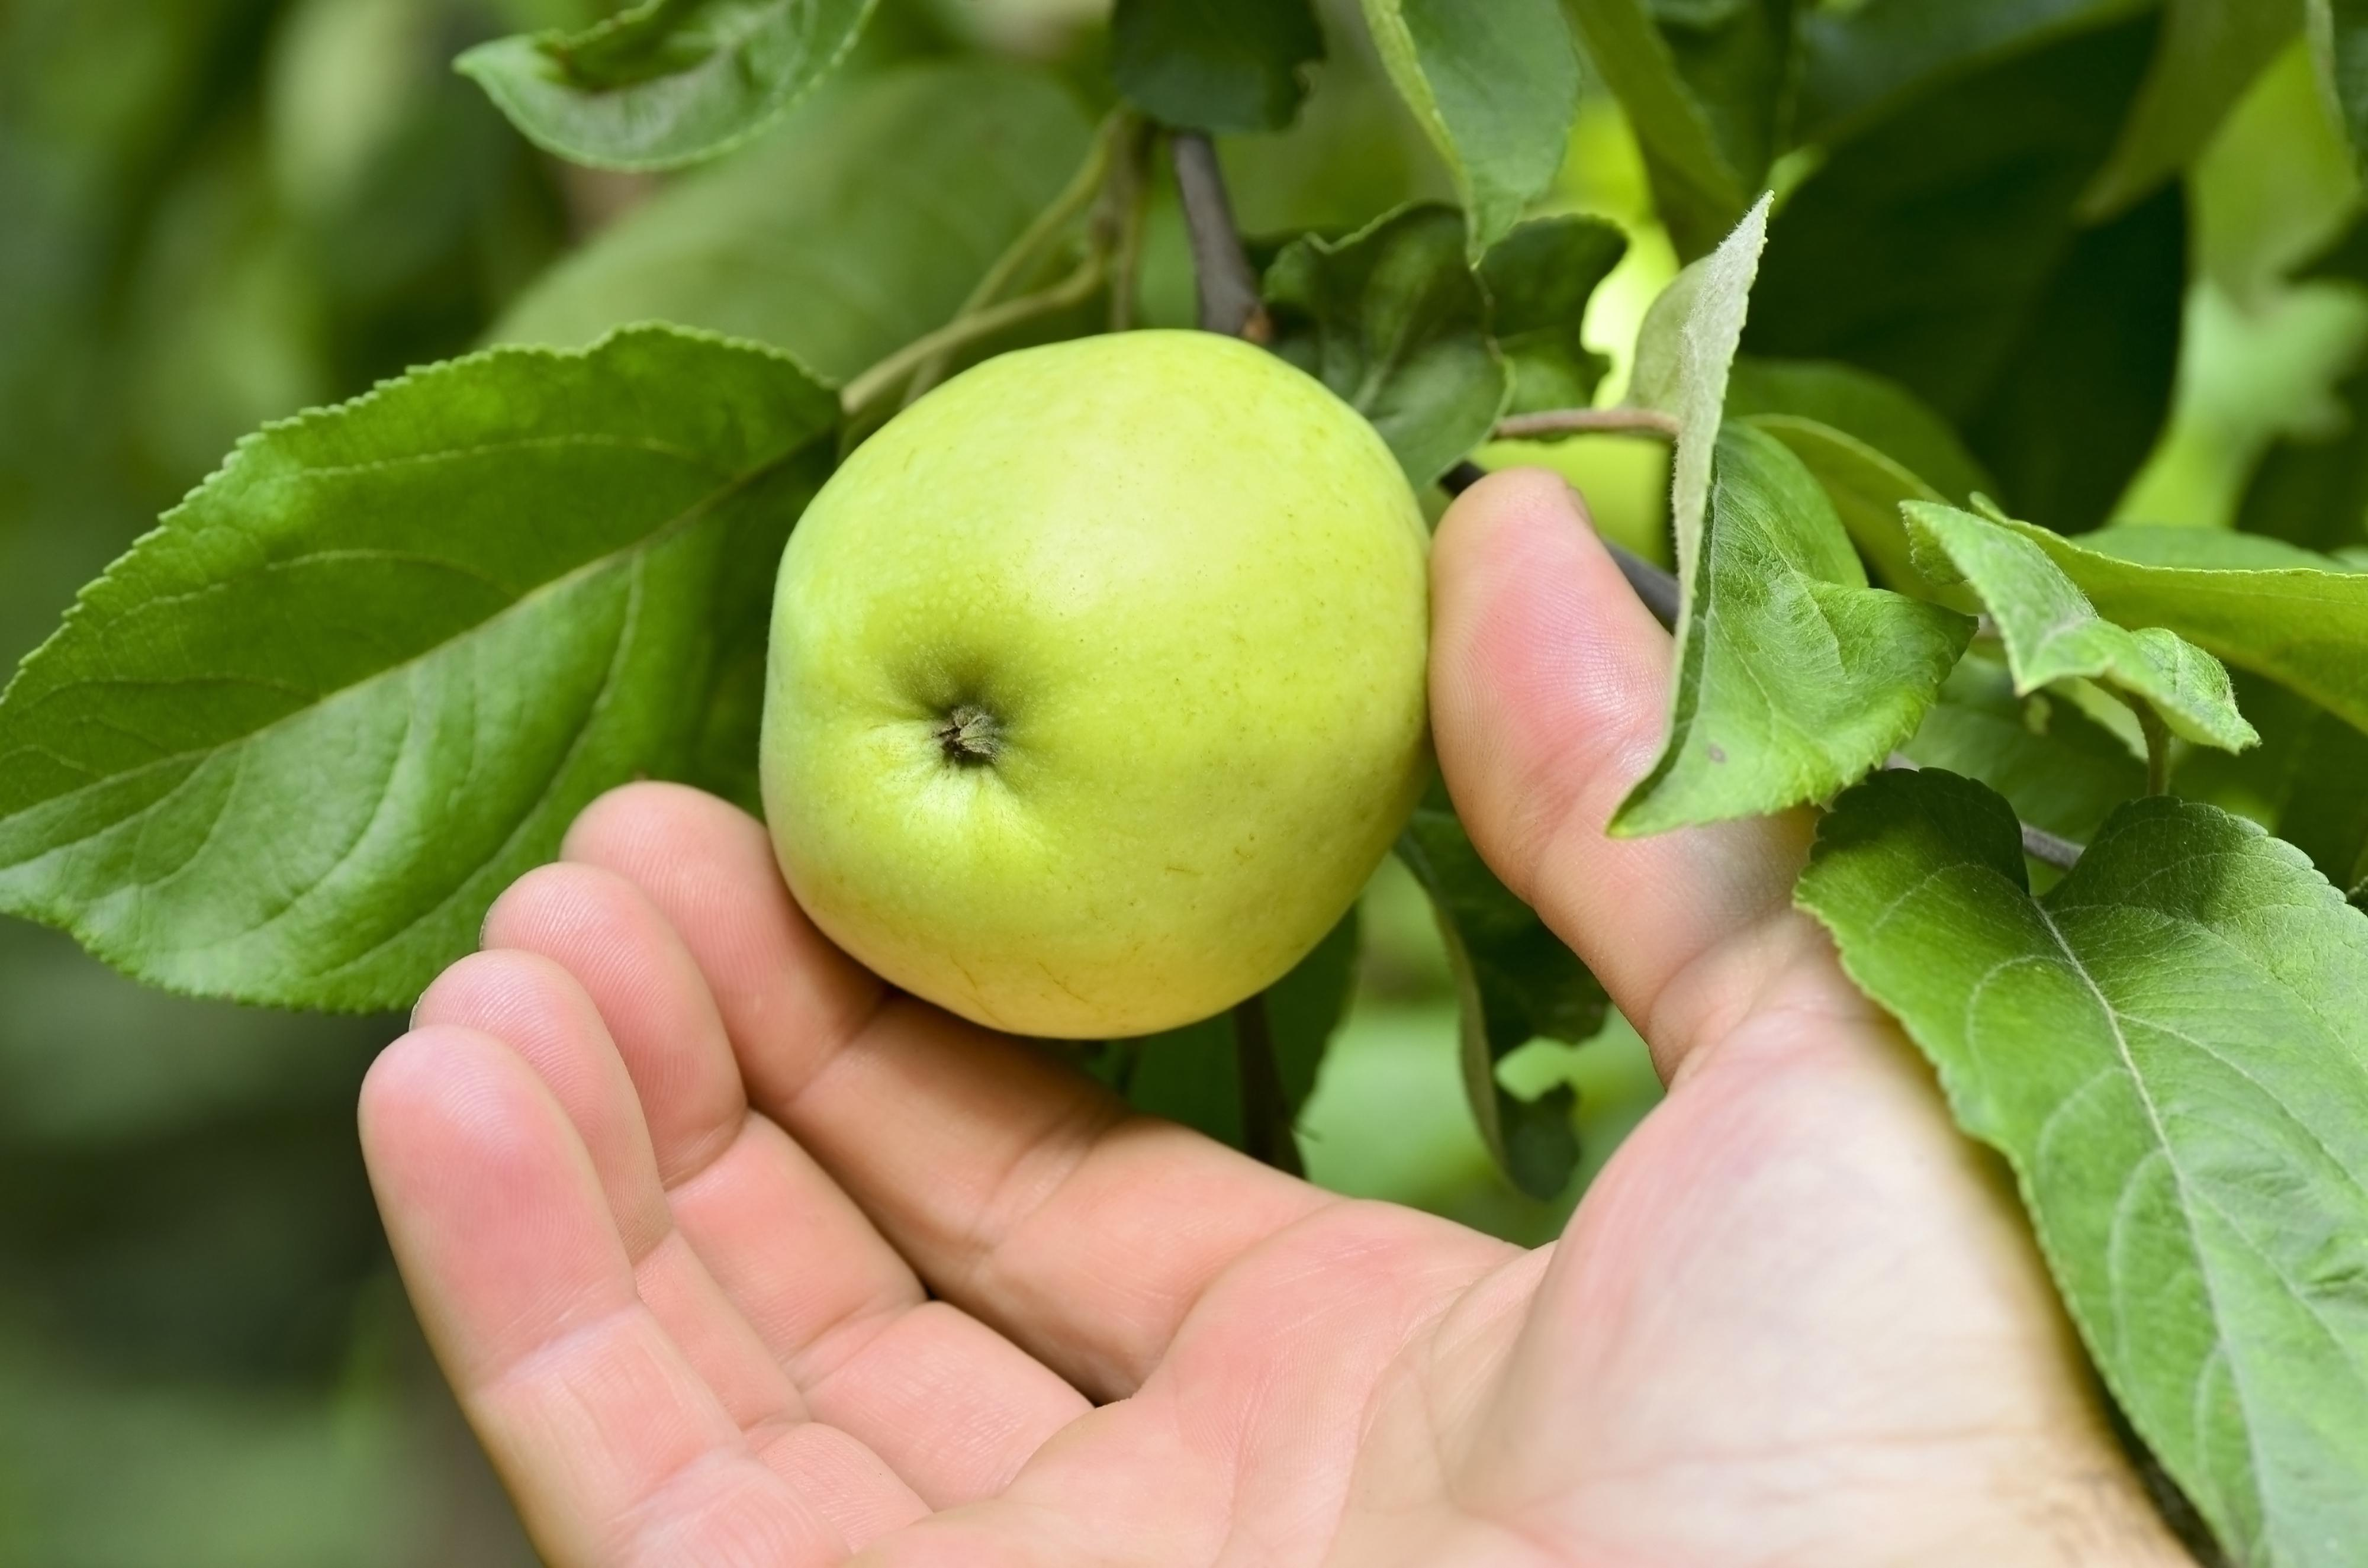apple: (753, 331, 1435, 1057)
